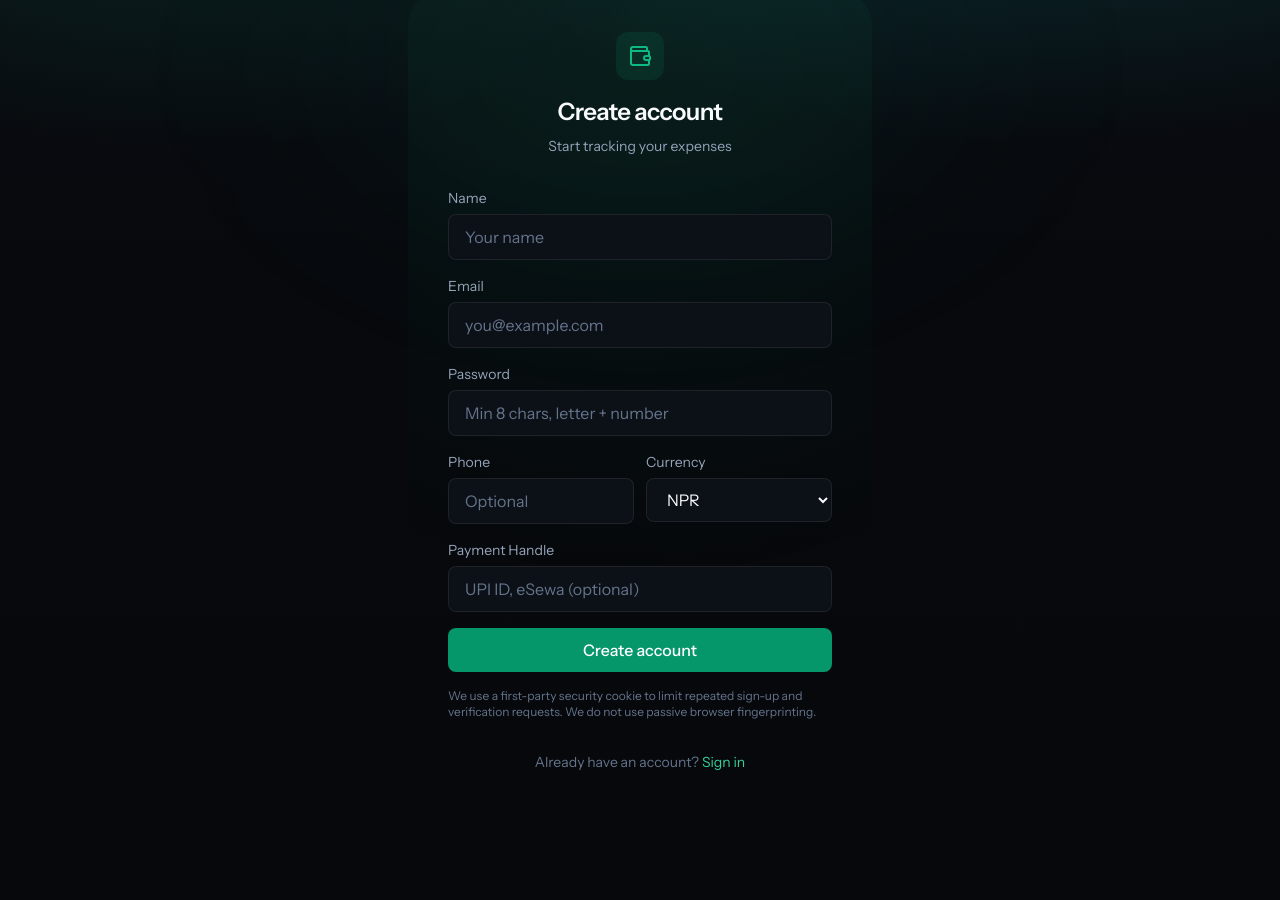
Test: RegisterPage validation › shows error for short password
This screenshot has width=1280, height=900.
In the field with placeholder "Your name": (640, 237) [448,214,832,260], type "Test User"
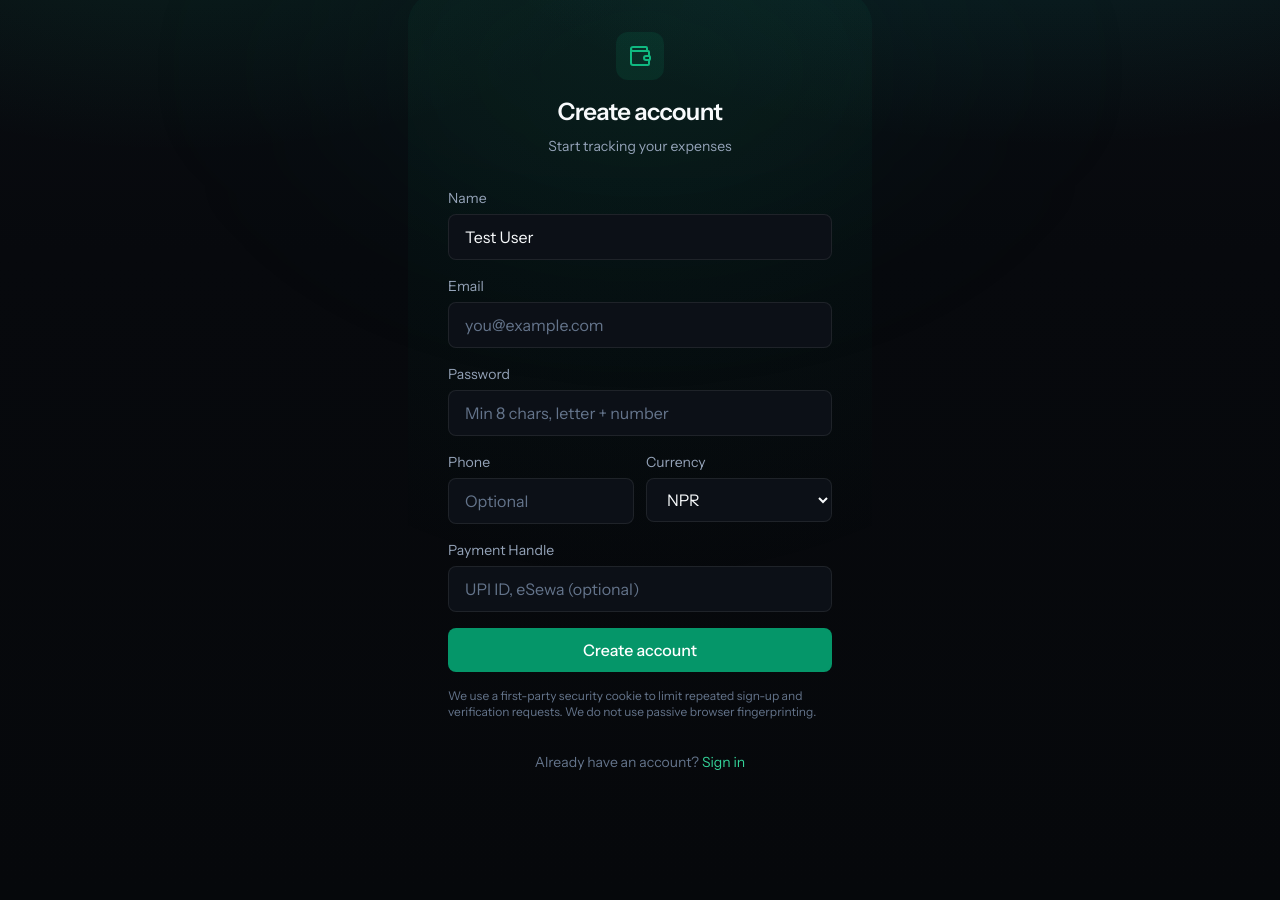
In the field with placeholder "you@example.com": (640, 325) [448,302,832,348], type "test@example.com"
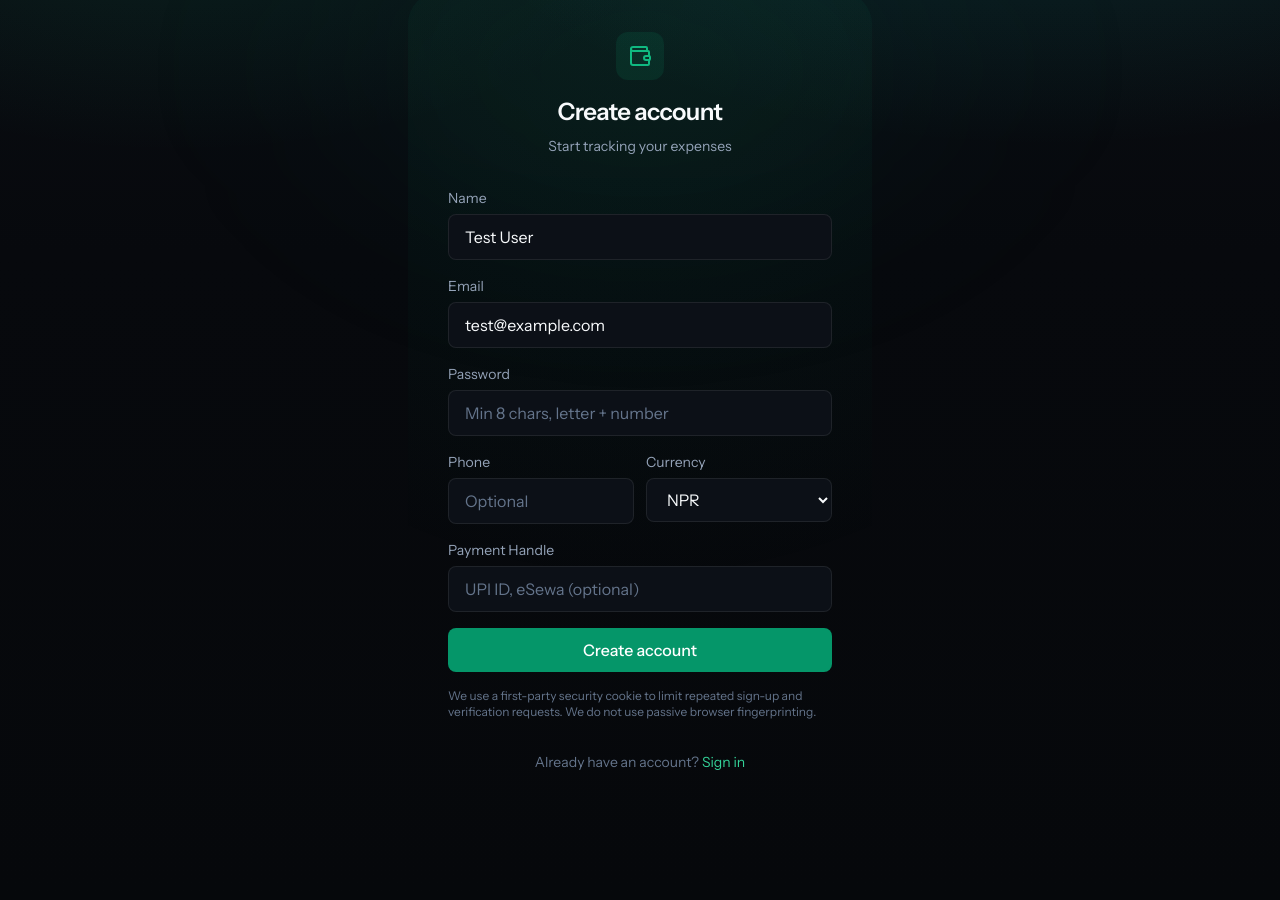
In the password field with placeholder "Min 8 chars, letter + number": (640, 413) [448,390,832,436], type "short"
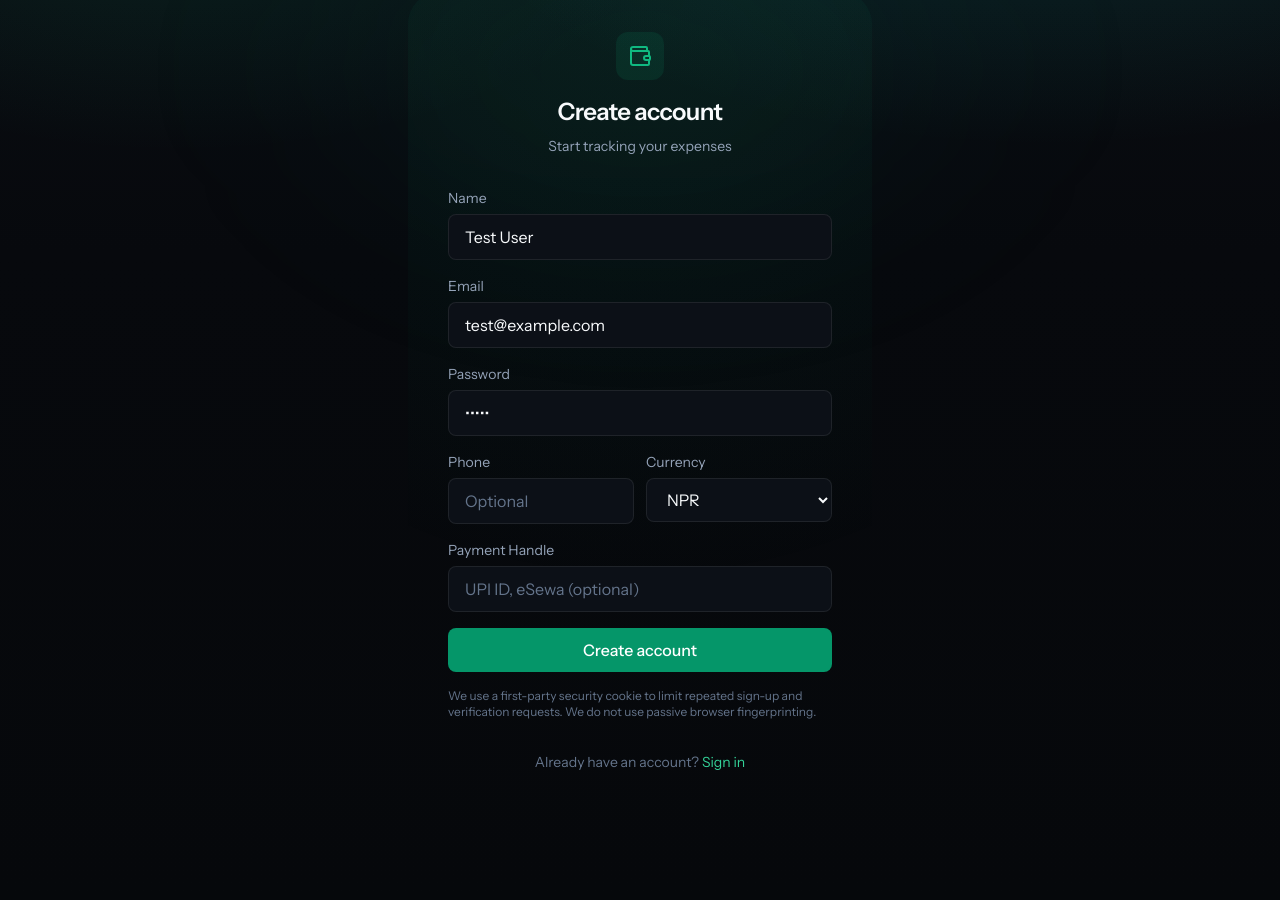
Click the button "Create account": (640, 650) [448,628,832,672]
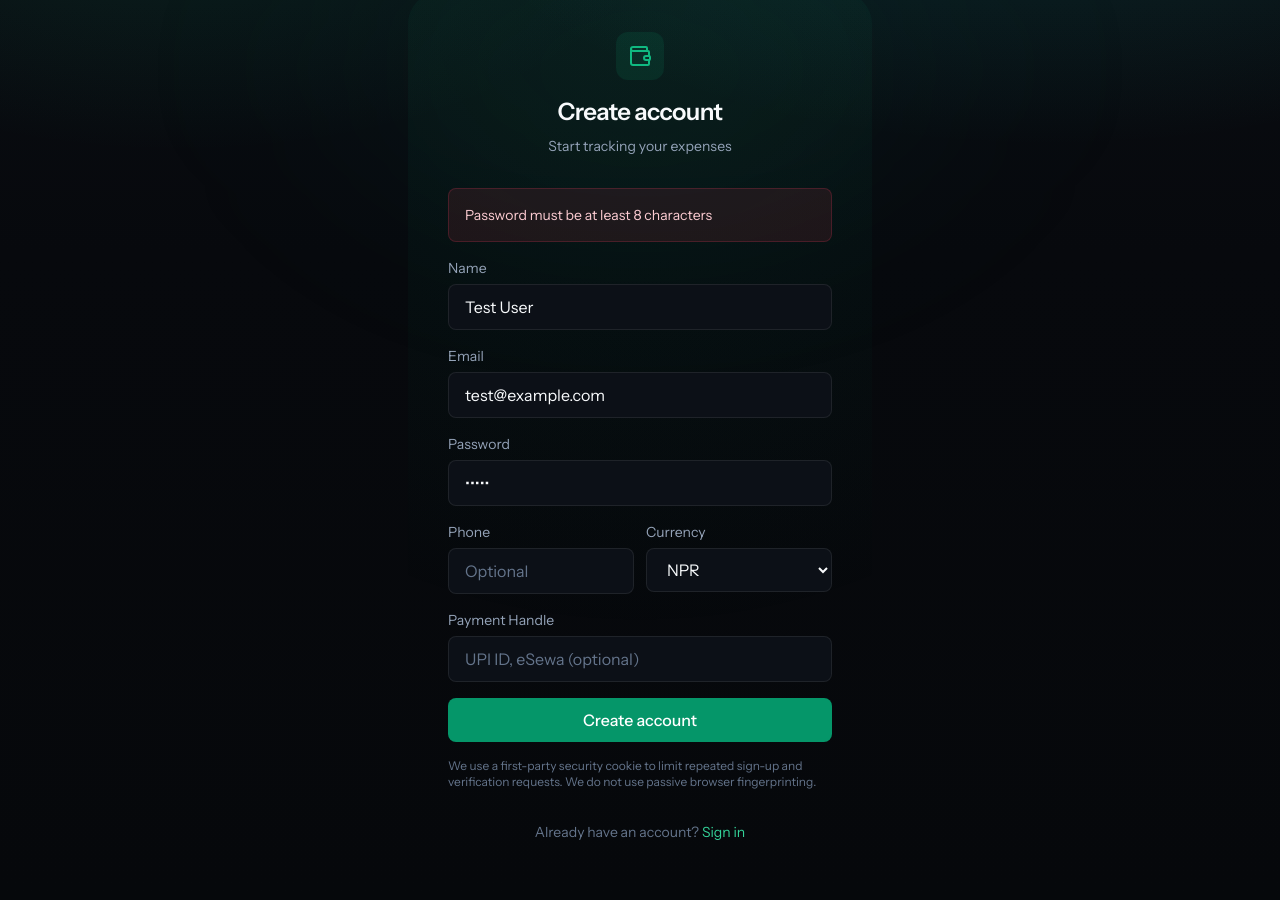
Now the text "Password must be at least 8 characters" is shown, box [465,205,712,225]
